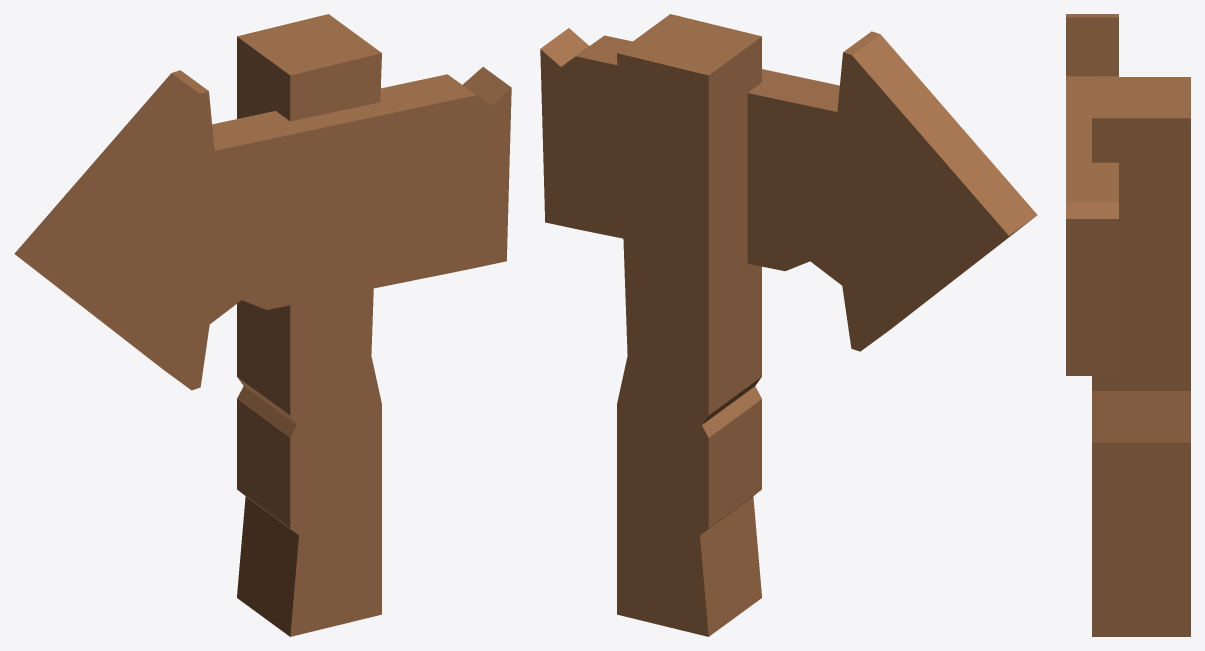
The model's file is Sign_Left.glb.
The picture shows the model from 3 angles, left to right: view 1: azimuth 30°, elevation 25°; view 2: azimuth 150°, elevation 25°; view 3: azimuth 270°, elevation 25°; orthographic projection. The views are drawn at different scales.
Parts seen in each view (by area): view 1: Sign_Left; view 2: Sign_Left; view 3: Sign_Left.
Part boxes in pixels (x1,y1,x2,y2): Sign_Left: (14, 14, 511, 636); Sign_Left: (540, 14, 1037, 636); Sign_Left: (1066, 14, 1190, 636).
Bounding box in the file's own units: 1.1 × 1.3 × 0.2746.
